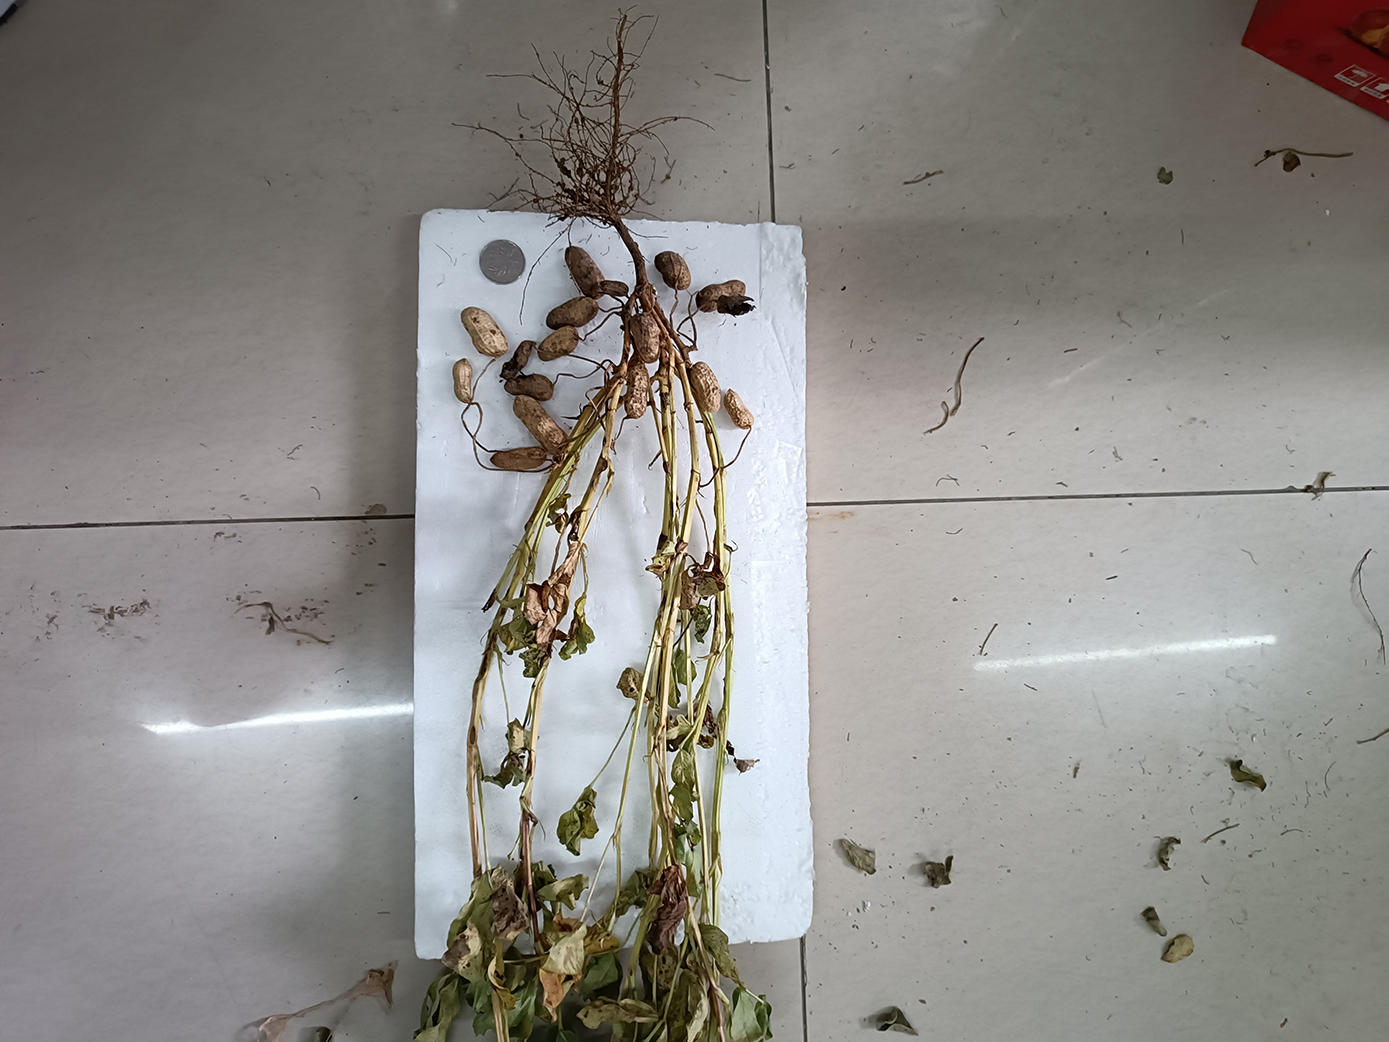h: (513, 394, 568, 454), (460, 306, 508, 356), (688, 362, 722, 413), (653, 250, 691, 291), (630, 313, 660, 364), (539, 325, 579, 361), (724, 387, 754, 430), (453, 358, 473, 404)
l: (565, 246, 604, 299), (546, 296, 598, 329), (696, 280, 746, 313), (624, 359, 648, 419), (499, 340, 535, 380), (490, 447, 546, 471), (503, 374, 554, 401), (716, 294, 757, 319), (599, 280, 629, 297)
